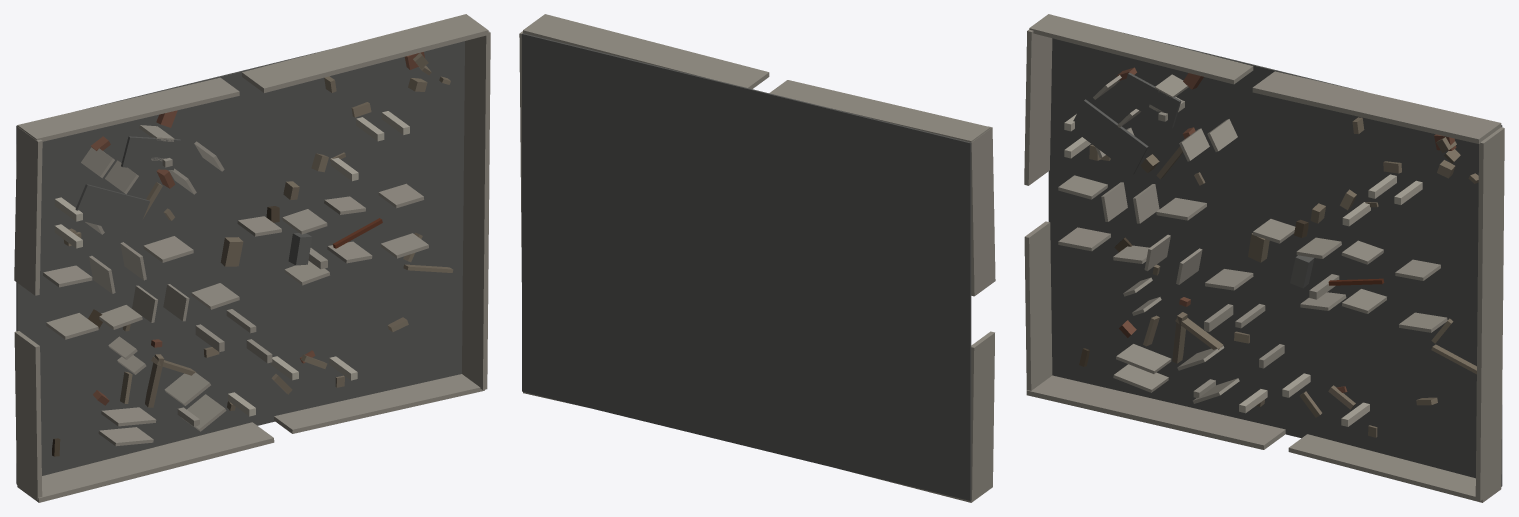
Rendered from Ruins-Urban-01_base.obj.
3 views of the same model, side by side, from view 1: azimuth 30°, elevation 25°; view 2: azimuth 150°, elevation 25°; view 3: azimuth 330°, elevation 25° (orthographic).
Visible parts, largest first — view 1: floor_slab, east_boundary, north_boundary_east, south_boundary_west, north_boundary_west, south_boundary_east, west_boundary_north, west_boundary_south, utility_ceiling_01, utility_ceiling_02, ground_corridor_s4_s5_left, spine_broken_panel_08 (+23 smaller); view 2: floor_slab, north_boundary_east, north_boundary_west, west_boundary_north, west_boundary_south; view 3: floor_slab, east_boundary, south_boundary_west, north_boundary_east, north_boundary_west, south_boundary_east, west_boundary_south, west_boundary_north, utility_ceiling_01, utility_ceiling_02, ground_corridor_s3_s4_left, ground_corridor_s3_s4_right (+16 smaller).
Boxes of the visible parts, left/top/right/bottom form: floor_slab: left=16, top=41, right=464, bottom=483; east_boundary: left=462, top=31, right=490, bottom=389; north_boundary_east: left=242, top=14, right=488, bottom=92; south_boundary_west: left=17, top=422, right=274, bottom=502; north_boundary_west: left=17, top=77, right=239, bottom=141; south_boundary_east: left=274, top=374, right=484, bottom=433; west_boundary_north: left=14, top=126, right=42, bottom=295; west_boundary_south: left=14, top=331, right=42, bottom=499; utility_ceiling_01: left=75, top=184, right=149, bottom=234; utility_ceiling_02: left=121, top=136, right=181, bottom=170; ground_corridor_s4_s5_left: left=164, top=372, right=210, bottom=405; spine_broken_panel_08: left=46, top=313, right=98, bottom=339; floor_slab: left=522, top=33, right=971, bottom=500; north_boundary_east: left=523, top=14, right=769, bottom=89; north_boundary_west: left=769, top=80, right=990, bottom=142; west_boundary_north: left=971, top=126, right=995, bottom=296; west_boundary_south: left=971, top=331, right=994, bottom=500; floor_slab: left=1048, top=29, right=1502, bottom=486; east_boundary: left=1475, top=127, right=1504, bottom=501; south_boundary_west: left=1026, top=375, right=1285, bottom=449; north_boundary_east: left=1252, top=71, right=1501, bottom=143; north_boundary_west: left=1029, top=14, right=1253, bottom=84; south_boundary_east: left=1288, top=434, right=1501, bottom=502; west_boundary_south: left=1024, top=221, right=1052, bottom=390; west_boundary_north: left=1024, top=29, right=1052, bottom=185; utility_ceiling_01: left=1073, top=99, right=1148, bottom=174; utility_ceiling_02: left=1120, top=72, right=1181, bottom=127; ground_corridor_s3_s4_left: left=1116, top=344, right=1171, bottom=373; ground_corridor_s3_s4_right: left=1113, top=364, right=1168, bottom=392.
Bounding box in the file's own units: 42.62 × 32.51 × 4.04.
